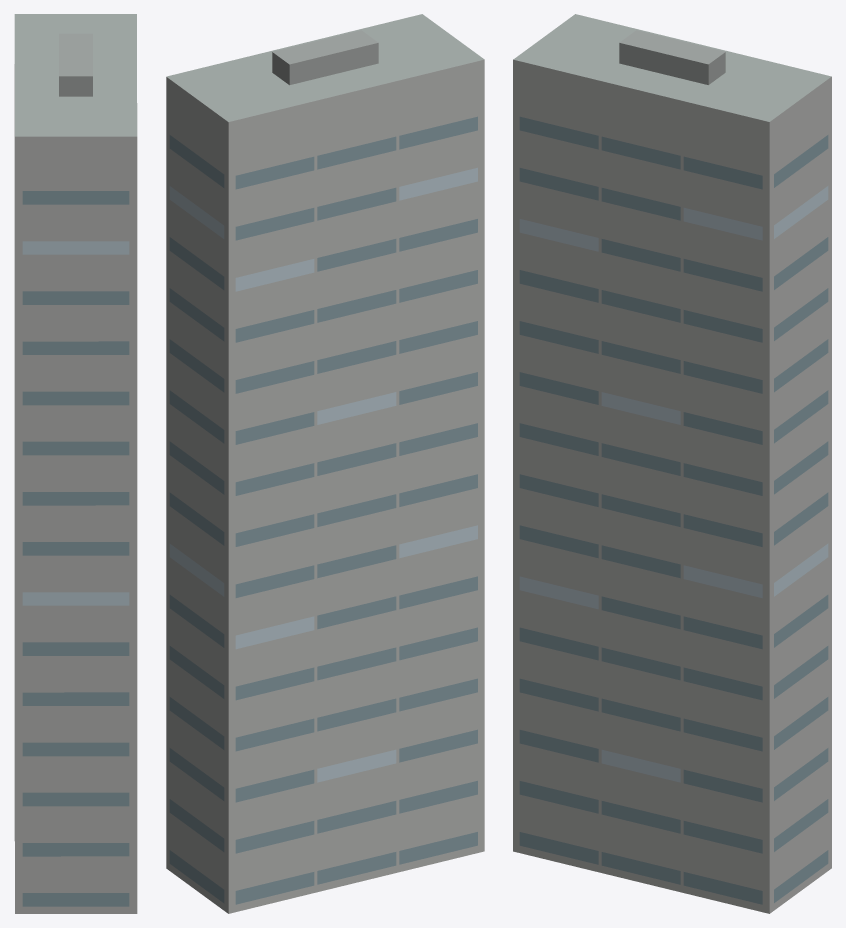
File: fallback-jamsil-ricenz-257.glb
3 views of the same model, side by side, from view 1: azimuth 30°, elevation 25°; view 2: azimuth 150°, elevation 25°; view 3: azimuth 270°, elevation 25° (orthographic).
Parts seen in each view (by area): view 1: fallback-jamsil-ricenz-257; view 2: fallback-jamsil-ricenz-257; view 3: fallback-jamsil-ricenz-257.
Part boxes in pixels (x1,y1,x2,y2): fallback-jamsil-ricenz-257: (14, 14, 137, 913); fallback-jamsil-ricenz-257: (166, 14, 484, 913); fallback-jamsil-ricenz-257: (513, 14, 831, 913).
Size of the model in its own units: 26.82 by 94 by 33.41.
